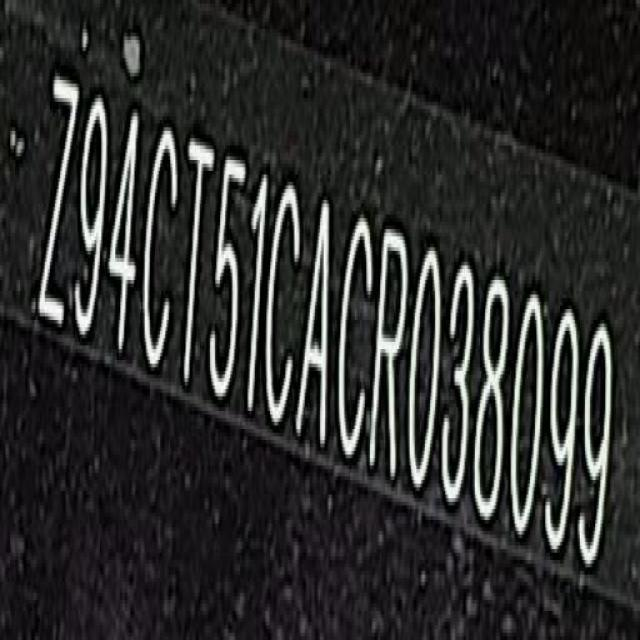0: (508, 288, 548, 547), (406, 240, 444, 504)
1: (240, 160, 268, 431)
3: (439, 262, 478, 518)
4: (107, 101, 146, 369)
5: (206, 145, 247, 417)
7: (180, 132, 218, 404)
8: (472, 270, 509, 527)
9: (69, 85, 113, 354), (543, 309, 582, 561), (578, 329, 617, 575)
A: (296, 193, 339, 458)
C: (137, 118, 183, 385), (334, 208, 378, 472), (262, 177, 304, 442)
R: (370, 223, 412, 492)
Z: (31, 69, 83, 339)
